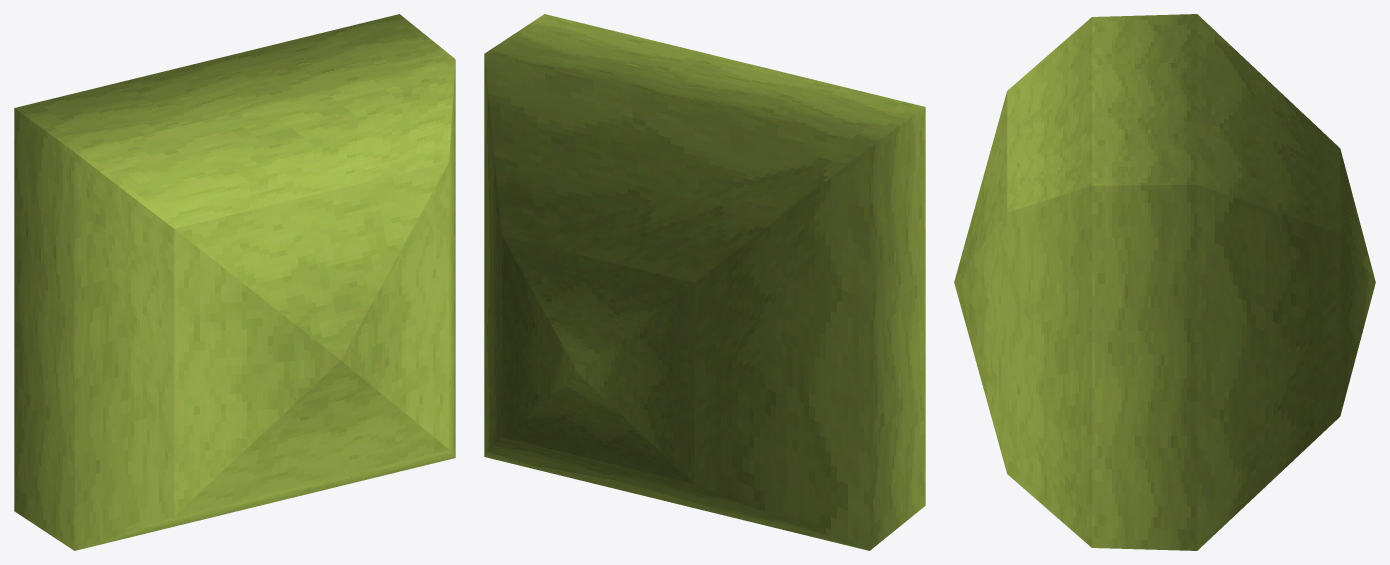
The model's file is SM_AP_Tree_Canopy_2.glb.
3 views of the same model, side by side, from view 1: azimuth 30°, elevation 25°; view 2: azimuth 150°, elevation 25°; view 3: azimuth 270°, elevation 25° (orthographic). The views are drawn at different scales.
Parts seen in each view (by area): view 1: SM_AP_Tree_Canopy_2; view 2: SM_AP_Tree_Canopy_2; view 3: SM_AP_Tree_Canopy_2.
Part boxes in pixels (box(x1,y1,x2,y2)): SM_AP_Tree_Canopy_2: box(14, 14, 455, 550); SM_AP_Tree_Canopy_2: box(484, 14, 925, 550); SM_AP_Tree_Canopy_2: box(954, 14, 1375, 550).
Bounding box in the file's own units: 4.14 × 4.14 × 4.32.
1 material, 1 textured.
